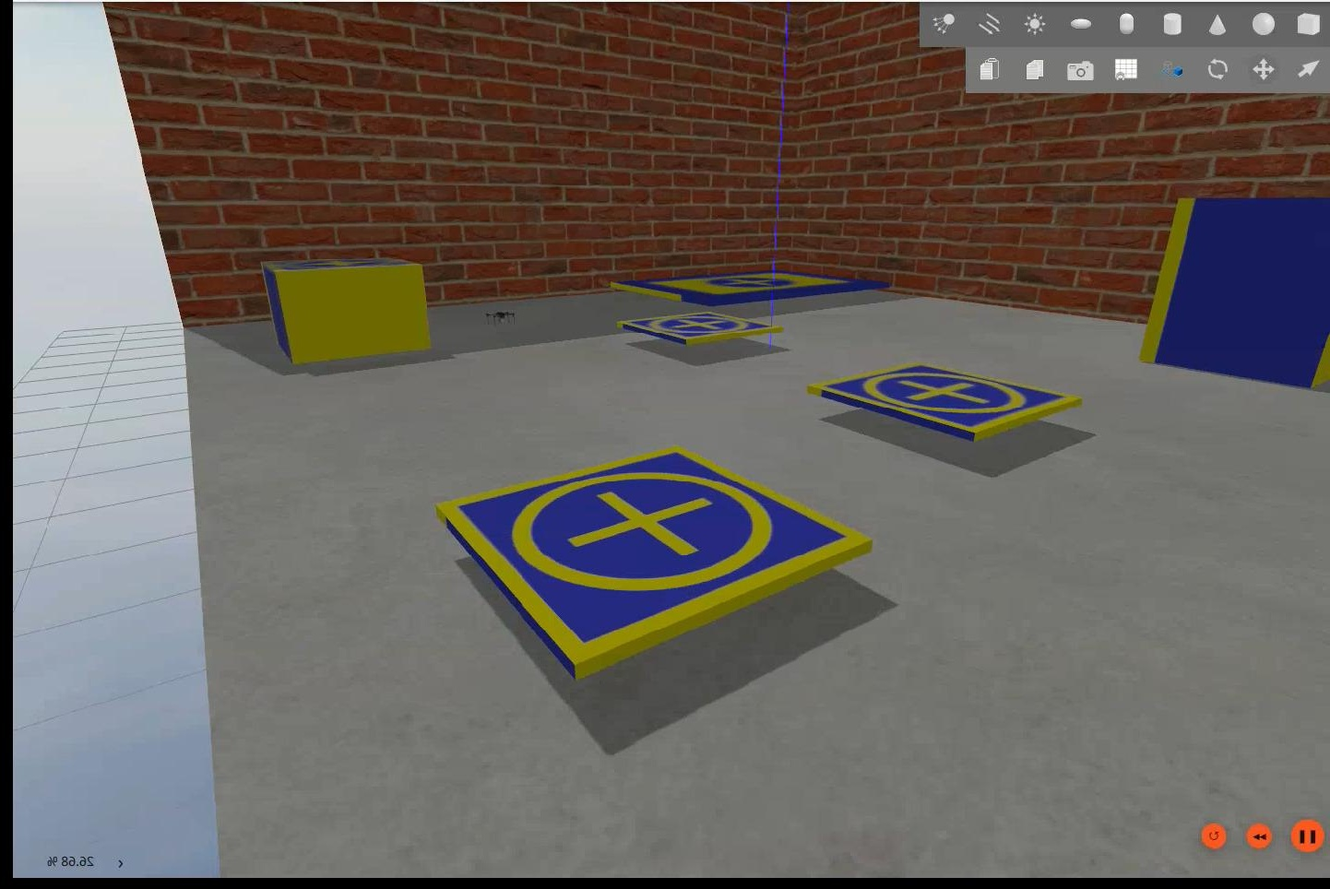large_base: (601, 266, 891, 312)
small_base: (423, 446, 871, 682), (802, 360, 1082, 444), (616, 308, 780, 349), (255, 253, 422, 280)
